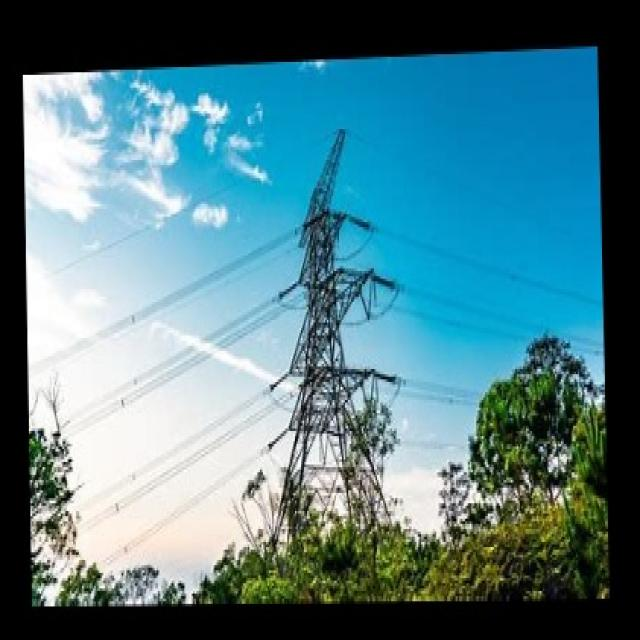utility poles: (447, 294, 594, 518), (288, 343, 404, 586)
